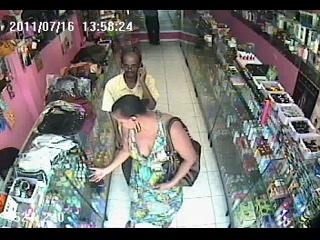Normal: (88, 94, 197, 226), (101, 52, 160, 112), (142, 10, 160, 46)
